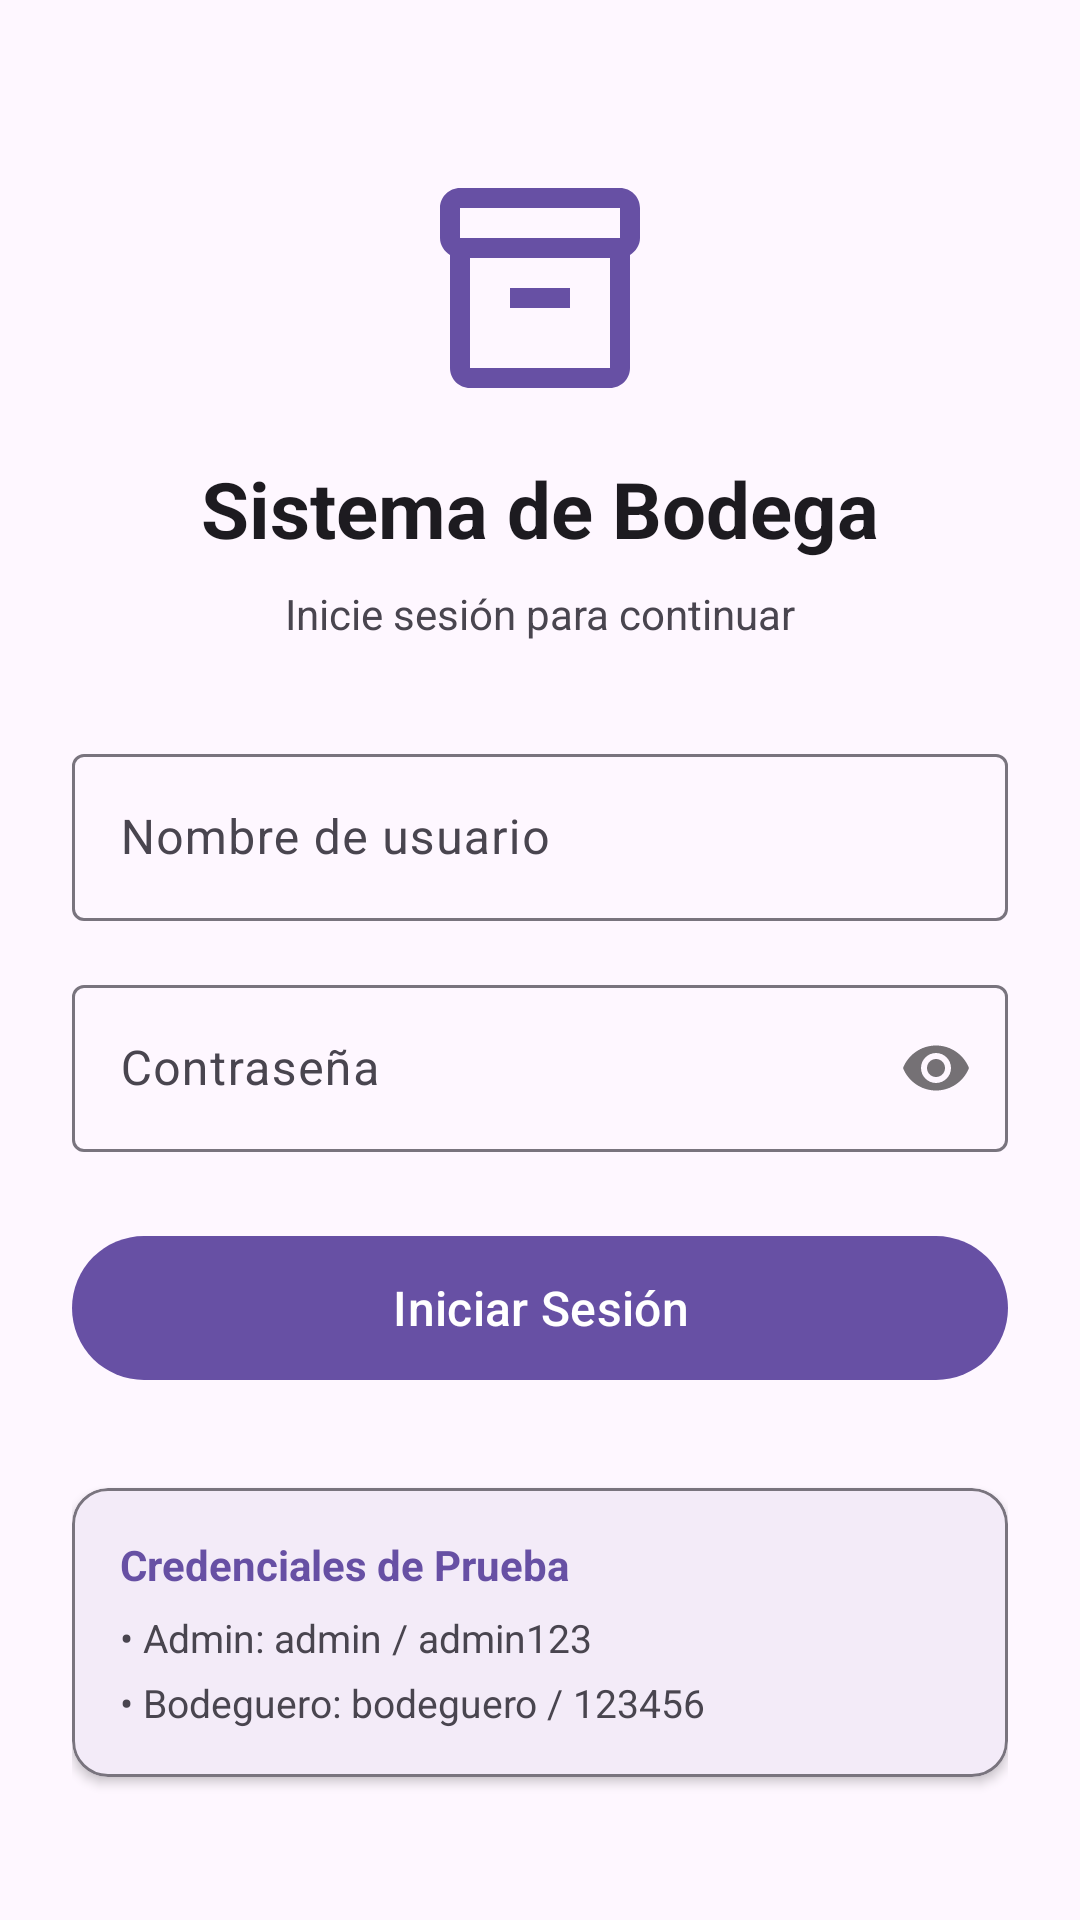

Named icons in this screenshot (1080x1920) and their bounding boxes, (x1, y1, x2, y2):
inventory: (440, 188, 640, 388)
